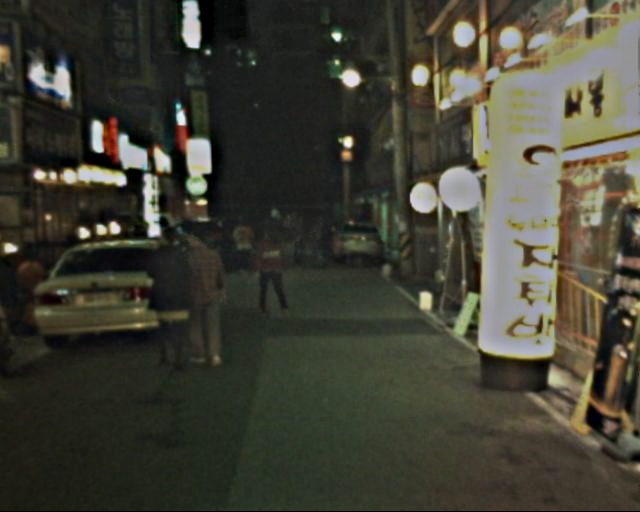person: (142, 221, 199, 377), (178, 220, 234, 374), (252, 224, 291, 322), (267, 202, 296, 279), (229, 216, 259, 283), (287, 213, 309, 274), (315, 218, 337, 275)
